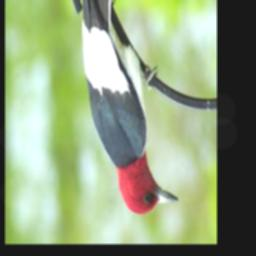Woodpecker: (71, 0, 181, 217)
